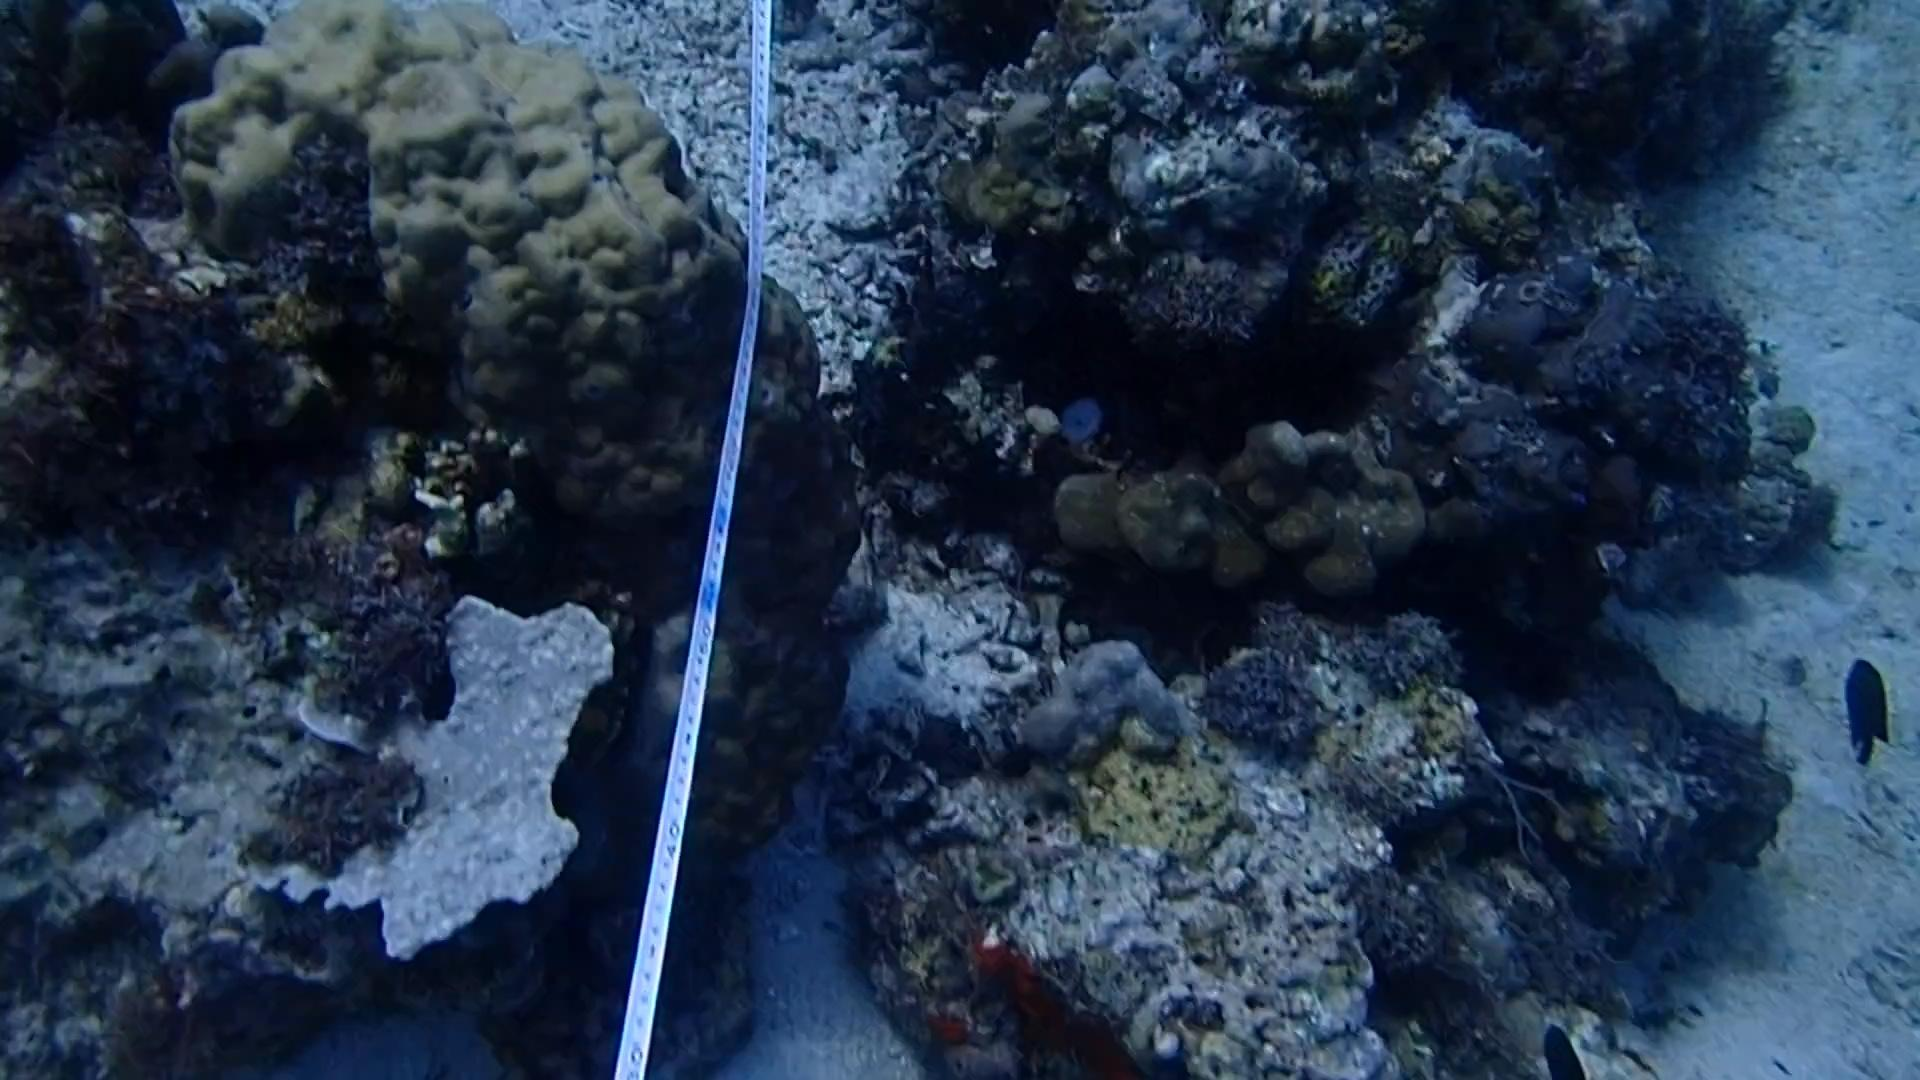Dark Fish: (1825, 647, 1903, 775), (1531, 1015, 1588, 1080)
